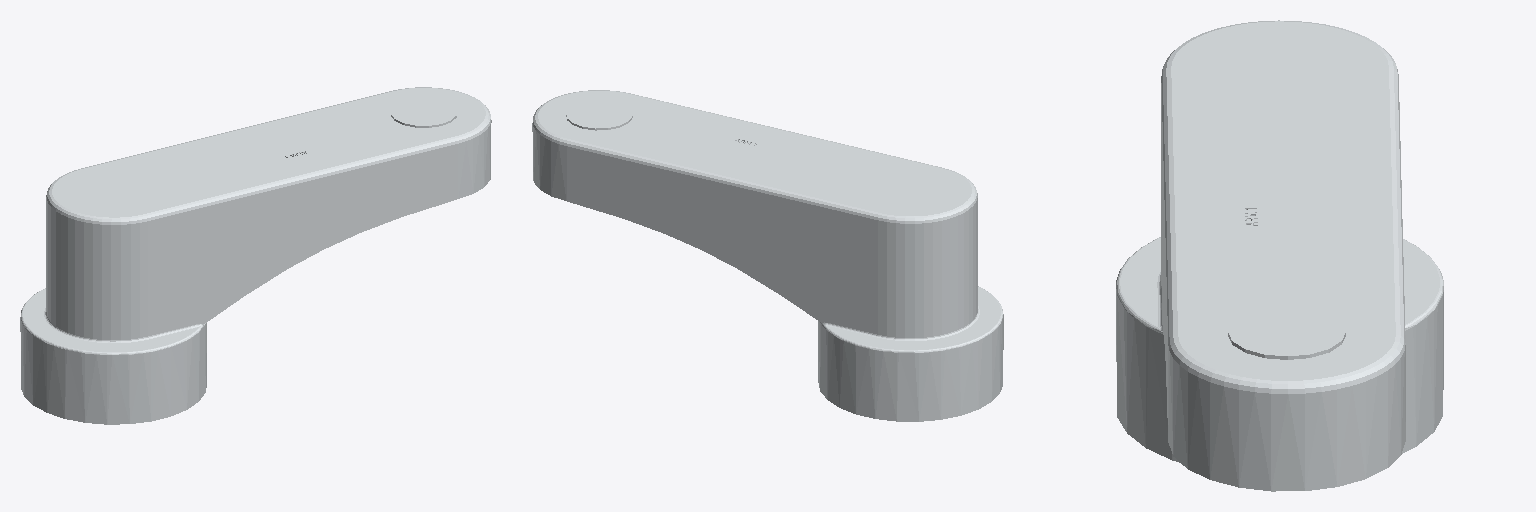
URDF robot description (scara2):
<?xml version="1.0" encoding="utf-8"?>
<!-- This URDF was automatically created by SolidWorks to URDF Exporter! Originally created by [author] ([email redacted]) 
     Commit Version: 1.6.0-4-g7f85cfe  Build Version: 1.6.7995.38578
     For more information, please see http://wiki.ros.org/sw_urdf_exporter -->
<robot
  name="scara2">
  <link
    name="base_link">
    <inertial>
      <origin
        xyz="3.4694E-18 -0.010496 0.097334"
        rpy="0 0 0" />
      <mass
        value="13.521" />
      <inertia
        ixx="0.07366"
        ixy="2.5757E-19"
        ixz="-4.1492E-18"
        iyy="0.08182"
        iyz="-0.0035749"
        izz="0.056323" />
    </inertial>
    <visual>
      <origin
        xyz="0 0 0"
        rpy="0 0 0" />
      <geometry>
        <mesh
          filename="package://scara2/meshes/base_link.STL" />
      </geometry>
      <material
        name="">
        <color
          rgba="0.89804 0.91765 0.92941 1" />
      </material>
    </visual>
    <collision>
      <origin
        xyz="0 0 0"
        rpy="0 0 0" />
      <geometry>
        <mesh
          filename="package://scara2/meshes/base_link.STL" />
      </geometry>
    </collision>
  </link>
  <link
    name="Link1">
    <inertial>
      <origin
        xyz="0.094352 0.0010294 0.12084"
        rpy="0 0 0" />
      <mass
        value="15.936" />
      <inertia
        ixx="0.069528"
        ixy="-0.0021755"
        ixz="-0.059062"
        iyy="0.26893"
        iyz="-0.00064495"
        izz="0.24013" />
    </inertial>
    <visual>
      <origin
        xyz="0 0 0"
        rpy="0 0 0" />
      <geometry>
        <mesh
          filename="package://scara2/meshes/Link1.STL" />
      </geometry>
      <material
        name="">
        <color
          rgba="0.89804 0.91765 0.92941 1" />
      </material>
    </visual>
    <collision>
      <origin
        xyz="0 0 0"
        rpy="0 0 0" />
      <geometry>
        <mesh
          filename="package://scara2/meshes/Link1.STL" />
      </geometry>
    </collision>
  </link>
  <joint
    name="q1"
    type="revolute">
    <origin
      xyz="0 0 0.2"
      rpy="0 0 0" />
    <parent
      link="base_link" />
    <child
      link="Link1" />
    <axis
      xyz="0 0 -1" />
    <limit
      lower="0"
      upper="0"
      effort="0"
      velocity="0" />
  </joint>
  <link
    name="link2">
    <inertial>
      <origin
        xyz="0.19698 6.5485E-05 0.083139"
        rpy="0 0 0" />
      <mass
        value="13.373" />
      <inertia
        ixx="0.060294"
        ixy="-6.133E-05"
        ixz="-0.049853"
        iyy="0.25254"
        iyz="-1.6152E-05"
        izz="0.21224" />
    </inertial>
    <visual>
      <origin
        xyz="0 0 0"
        rpy="0 0 0" />
      <geometry>
        <mesh
          filename="package://scara2/meshes/link2.STL" />
      </geometry>
      <material
        name="">
        <color
          rgba="0.89804 0.91765 0.92941 1" />
      </material>
    </visual>
    <collision>
      <origin
        xyz="0 0 0"
        rpy="0 0 0" />
      <geometry>
        <mesh
          filename="package://scara2/meshes/link2.STL" />
      </geometry>
    </collision>
  </link>
  <joint
    name="q2"
    type="revolute">
    <origin
      xyz="0.31998 0.0034886 0.2015"
      rpy="0 0 0" />
    <parent
      link="Link1" />
    <child
      link="link2" />
    <axis
      xyz="0 0 -1" />
    <limit
      lower="0"
      upper="0"
      effort="0"
      velocity="0" />
  </joint>
  <link
    name="shaft">
    <inertial>
      <origin
        xyz="-2.1871E-14 -1.9545E-13 -0.18237"
        rpy="0 0 0" />
      <mass
        value="0.80683" />
      <inertia
        ixx="0.012728"
        ixy="2.166E-20"
        ixz="6.2417E-19"
        iyy="0.012728"
        iyz="7.3737E-20"
        izz="0.00015918" />
    </inertial>
    <visual>
      <origin
        xyz="0 0 0"
        rpy="0 0 0" />
      <geometry>
        <mesh
          filename="package://scara2/meshes/shaft.STL" />
      </geometry>
      <material
        name="">
        <color
          rgba="0.89804 0.91765 0.92941 1" />
      </material>
    </visual>
    <collision>
      <origin
        xyz="0 0 0"
        rpy="0 0 0" />
      <geometry>
        <mesh
          filename="package://scara2/meshes/shaft.STL" />
      </geometry>
    </collision>
  </link>
  <joint
    name="end"
    type="prismatic">
    <origin
      xyz="0.32 0.00010471 -0.33438"
      rpy="-3.1416 0 3.1416" />
    <parent
      link="link2" />
    <child
      link="shaft" />
    <axis
      xyz="0 0 -1" />
    <limit
      lower="0"
      upper="0"
      effort="0"
      velocity="0" />
  </joint>
</robot>

--- Render facts (derived) ---
The picture shows the robot from 3 angles, left to right: view 1: azimuth 30°, elevation 25°; view 2: azimuth 150°, elevation 25°; view 3: azimuth 270°, elevation 25°; orthographic projection.
Model scara2 with 4 links and 3 joints (2 revolute, 1 prismatic), rooted at base_link, posed every joint at zero.
Links seen in each view (by area): view 1: Link1; view 2: Link1; view 3: Link1.
Link boxes in pixels (x1=…): Link1: x1=20, y1=87, x2=491, y2=424; Link1: x1=532, y1=90, x2=1003, y2=421; Link1: x1=1116, y1=20, x2=1443, y2=491.
Bounding box of the posed robot: 0.463 × 0.1658 × 0.197 m (x, y, z).
1 mesh visuals loaded from 4 distinct referenced files (1 binary STL); not drawn: 3 (reference not matched to a file when rendering).